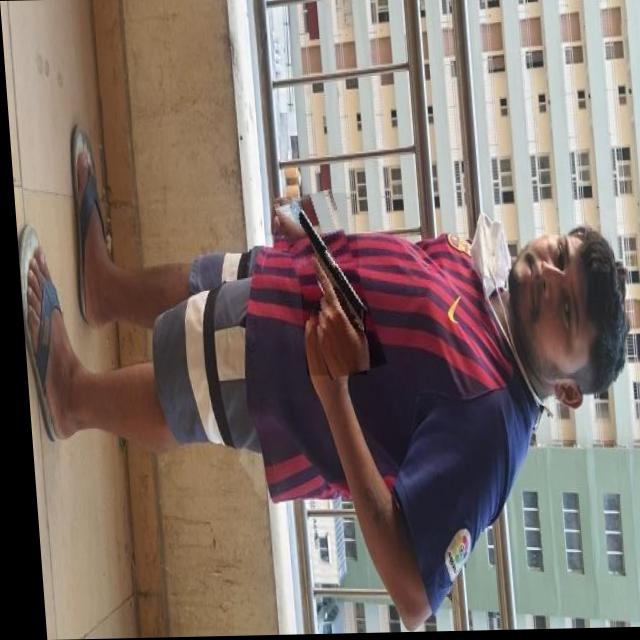handgun: (280, 190, 372, 379)
